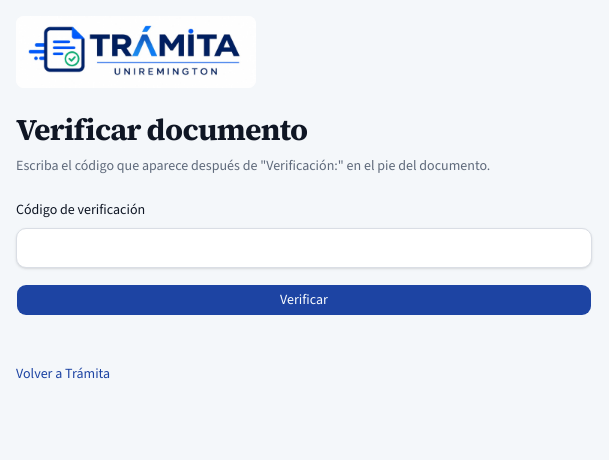
Test: VerifySealPage › mientras consulta bloquea el campo y el botón, y editar después borra el resultado anterior
Later steps or results of the test are not shown.
Type "ABC123" into the field labelled "Código de verificación" at (304, 248), box [16,228,592,268]
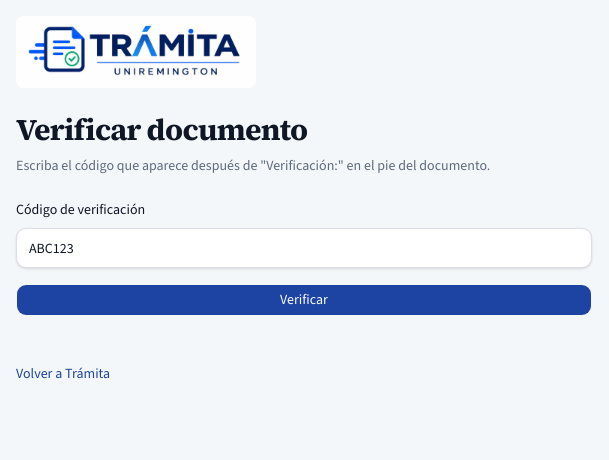
Click the button "Verificar" at (304, 300), box [16,284,592,316]
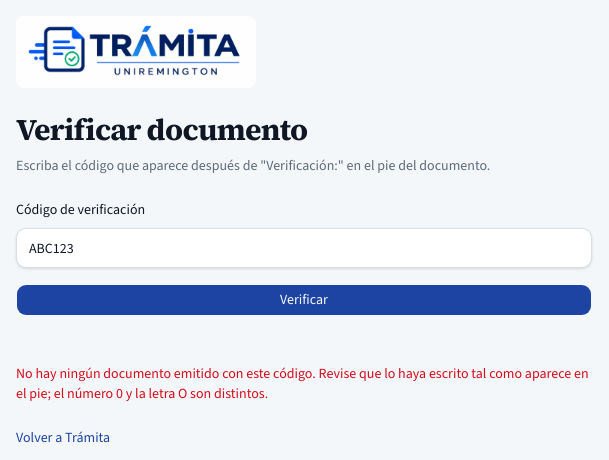
Check: the text "No hay ningún documento emitido" is shown, box [16,364,589,403]
Replace the text in the field labelled "Código de verificación" with "ABC124" at (304, 248), box [16,228,592,268]
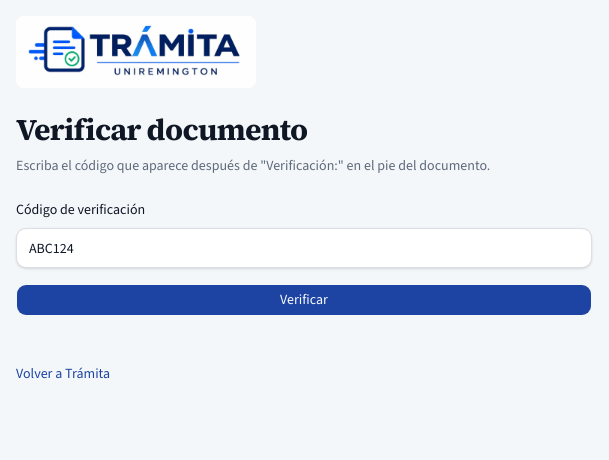
Check: the text "No hay ningún documento emitido" is gone
